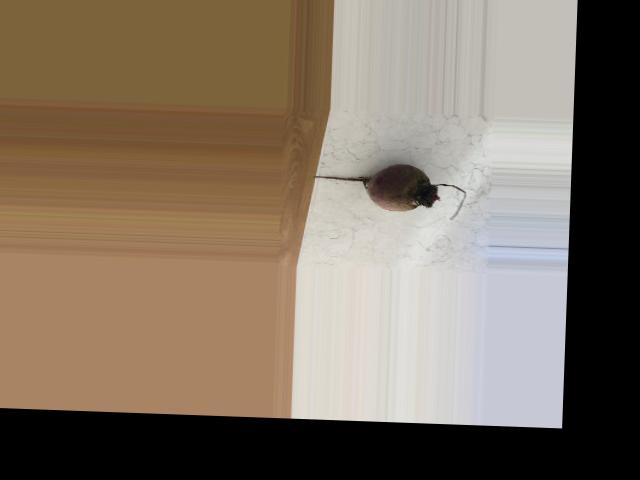beet: (310, 160, 466, 219)
